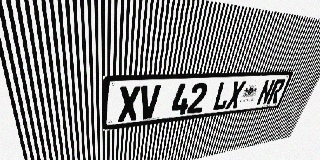2: (187, 82, 209, 114)
4: (170, 83, 193, 116)
L: (212, 81, 233, 111)
N: (256, 79, 276, 106)
R: (266, 79, 286, 104)
V: (138, 85, 161, 120)
X: (118, 86, 141, 122), (225, 81, 246, 109)
